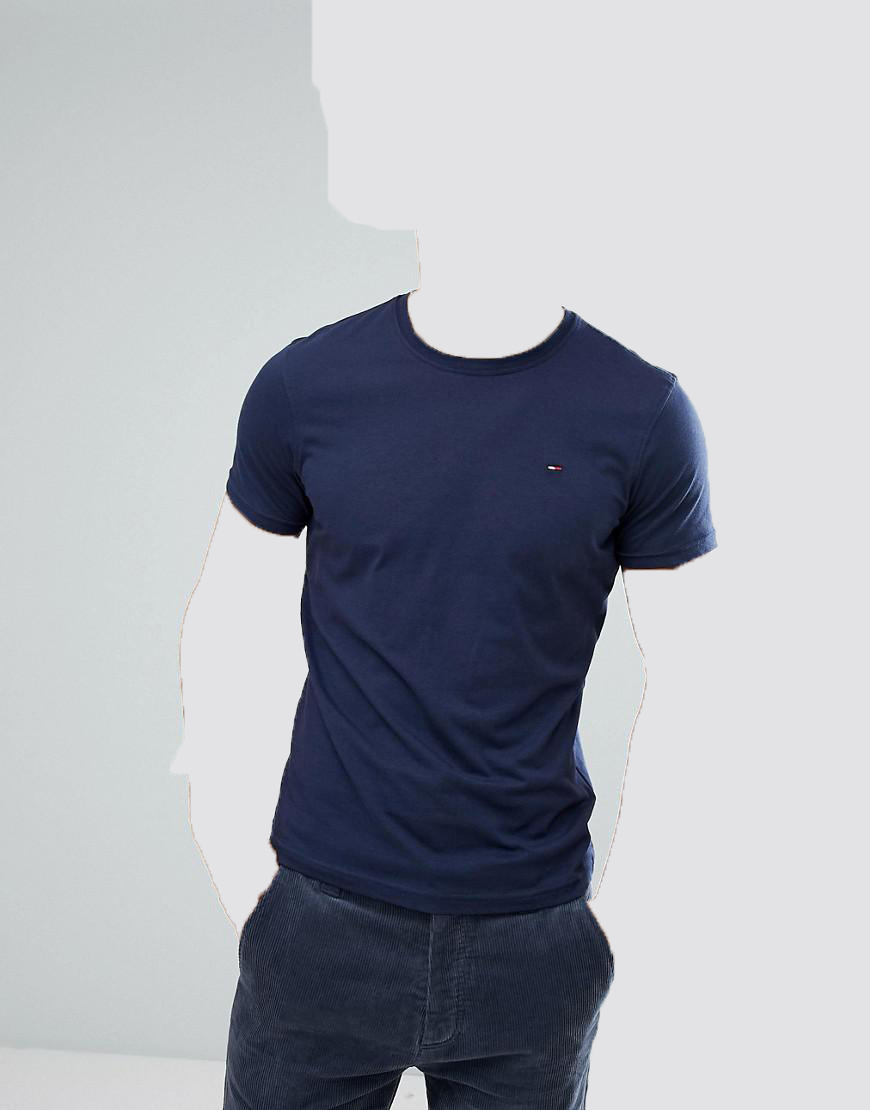teeshirt: (215, 286, 720, 930)
